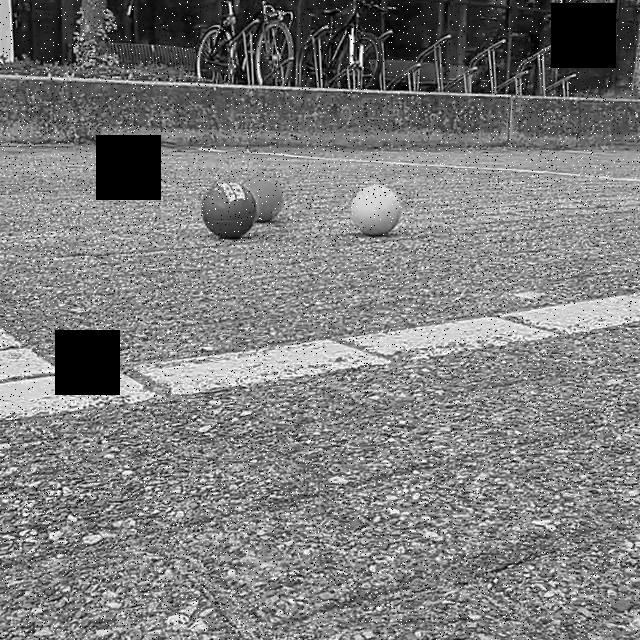ball: (202, 178, 260, 241), (349, 183, 405, 237), (242, 175, 290, 222)
